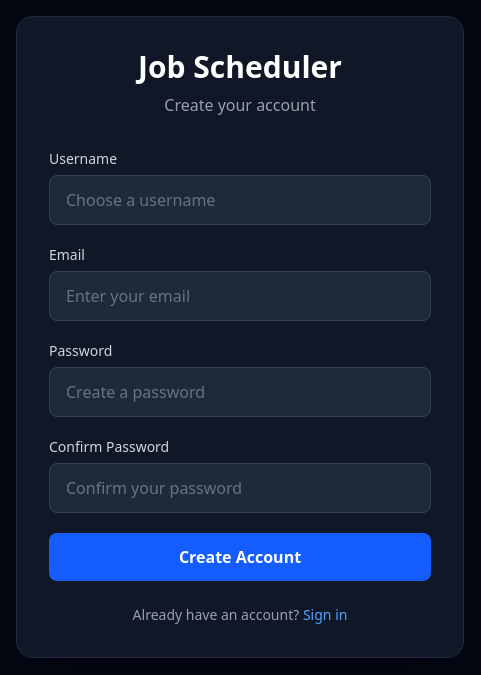
Scenario: Register Page › shows Creating account... while submitting
The image size is (481, 675).
Type "newuser" into the field with placeholder "Choose a username". click: (240, 200)
box: [49,175,431,225]
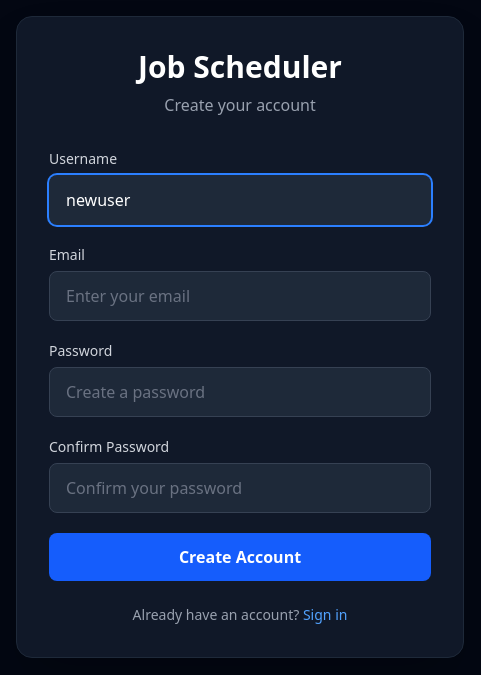
Type "new@test.com" into the field with placeholder "Enter your email". click: (240, 296)
box: [49,271,431,321]
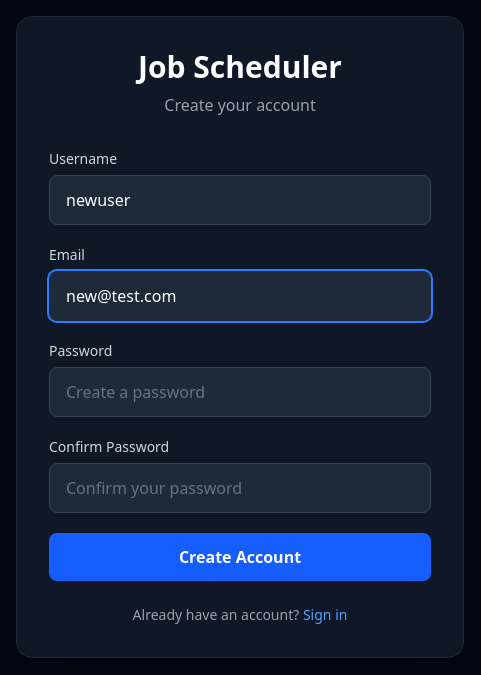
Type "pass123" into the password field with placeholder "Create a password". click: (240, 392)
box: [49,367,431,417]
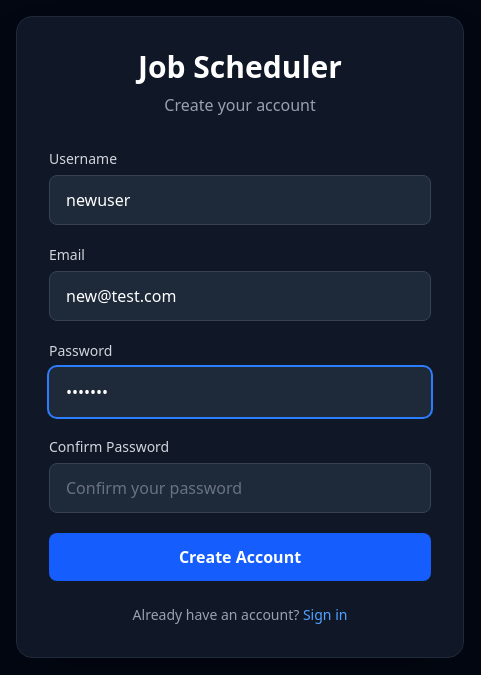
Type "pass123" into the password field with placeholder "Confirm your password". click: (240, 488)
box: [49,463,431,513]
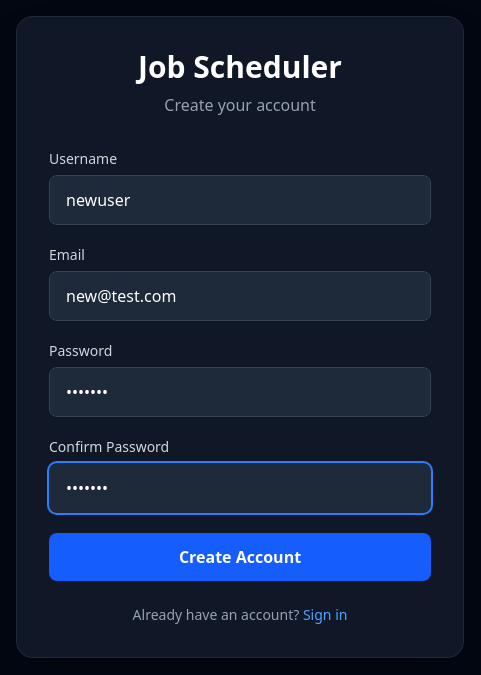
Click the button "Create Account". click: click(240, 557)
box: [49,533,431,581]
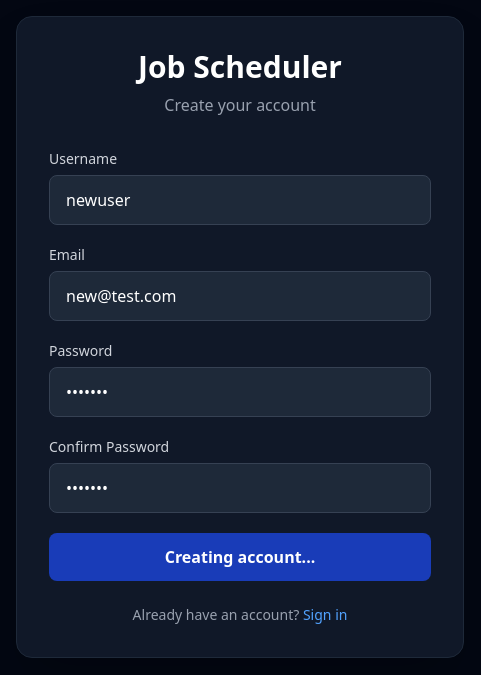
Expected: the button "Creating account..." is shown, [49,533,431,581]
